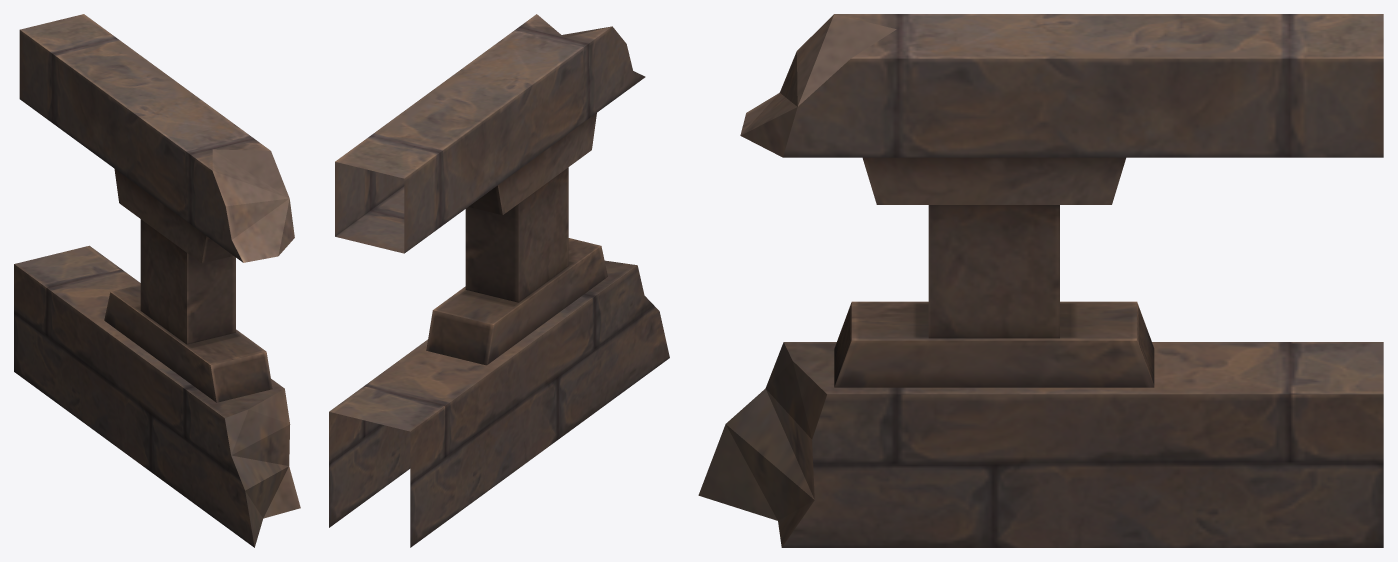
File: huoshan_Wujian_03.FBX
The picture shows the model from 3 angles, left to right: view 1: azimuth 30°, elevation 25°; view 2: azimuth 150°, elevation 25°; view 3: azimuth 270°, elevation 25°; orthographic projection. The views are drawn at different scales.
Parts seen in each view (by area): view 1: huoshan_Wujian_03; view 2: huoshan_Wujian_03; view 3: huoshan_Wujian_03.
Boxes of the visible parts, x1,y1,x2,y2 form: huoshan_Wujian_03: [14, 14, 300, 547]; huoshan_Wujian_03: [329, 14, 669, 547]; huoshan_Wujian_03: [698, 14, 1383, 547].
Size of the model in its own units: 23.12 by 99.9 by 128.
